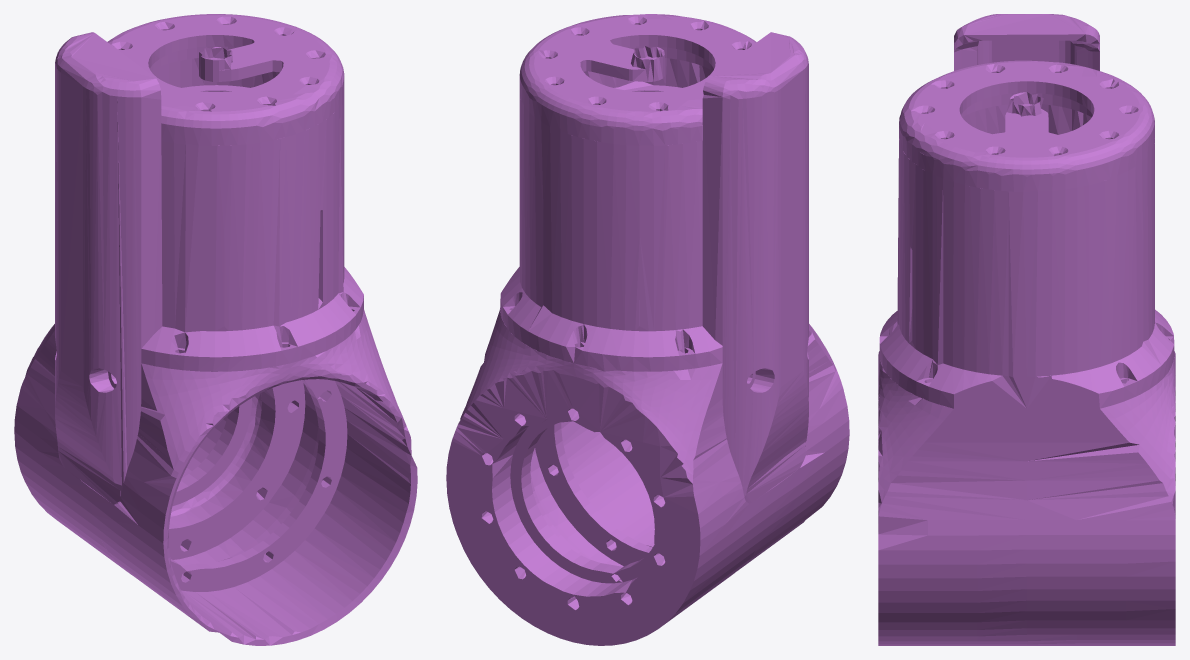
File: S2R1_SH1_neckTilt.dae
The picture shows the model from 3 angles, left to right: view 1: azimuth 30°, elevation 25°; view 2: azimuth 150°, elevation 25°; view 3: azimuth 270°, elevation 25°; orthographic projection.
Visible parts, largest first — view 1: S2R1_SH1_neckTilt; view 2: S2R1_SH1_neckTilt; view 3: S2R1_SH1_neckTilt.
Boxes of the visible parts, left/top/right/bottom form: S2R1_SH1_neckTilt: left=14, top=14, right=417, bottom=645; S2R1_SH1_neckTilt: left=446, top=14, right=849, bottom=645; S2R1_SH1_neckTilt: left=878, top=14, right=1175, bottom=645.
Bounding box in the file's own units: 0.0683 × 0.065 × 0.1336.
